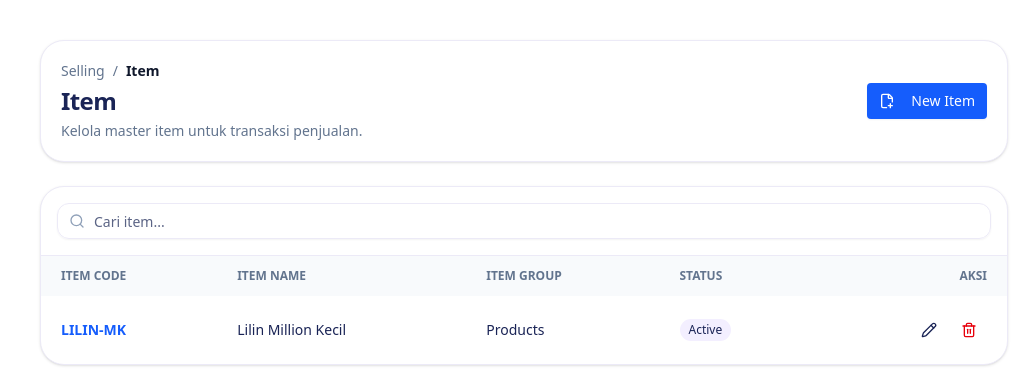
Scenario: MasterListPage › navigates directly to item detail page when row is clicked without opening a modal dialog
Expected: the text "Lilin Million Kecil" is shown, [217, 296, 466, 364]
Click the text "Lilin Million Kecil" at (524, 330), box [41, 296, 1007, 364]
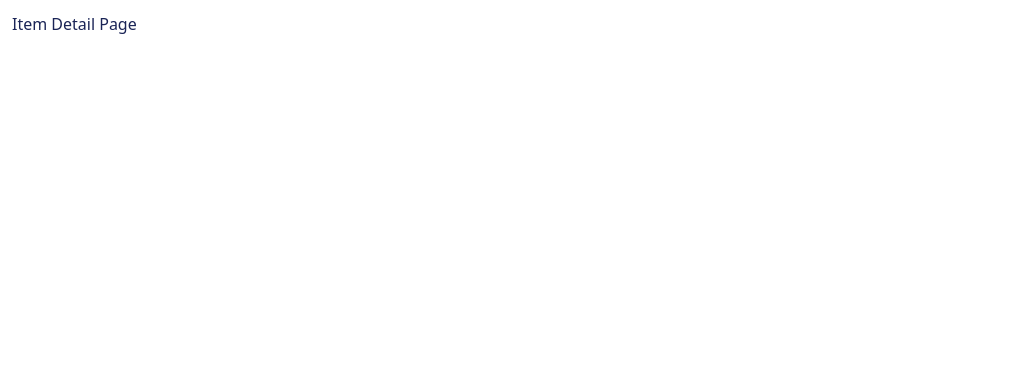
Now the text "Item Detail Page" is shown, box [12, 13, 137, 35]
